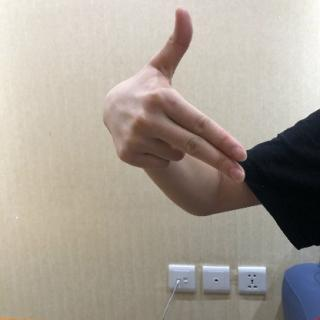GHAYN: (100, 5, 251, 186)
